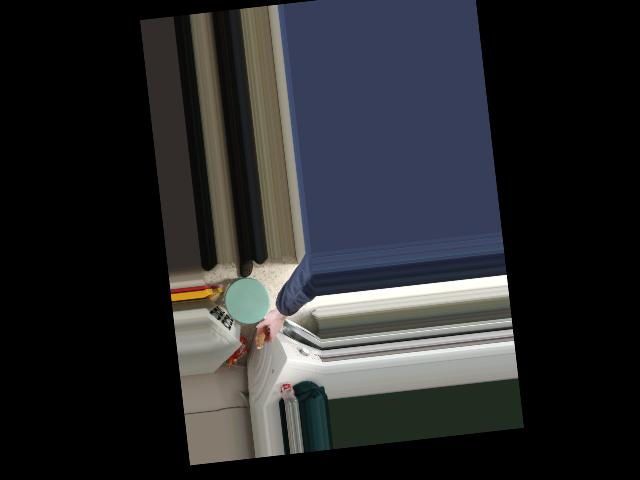sweet_potato: (252, 310, 277, 348)
